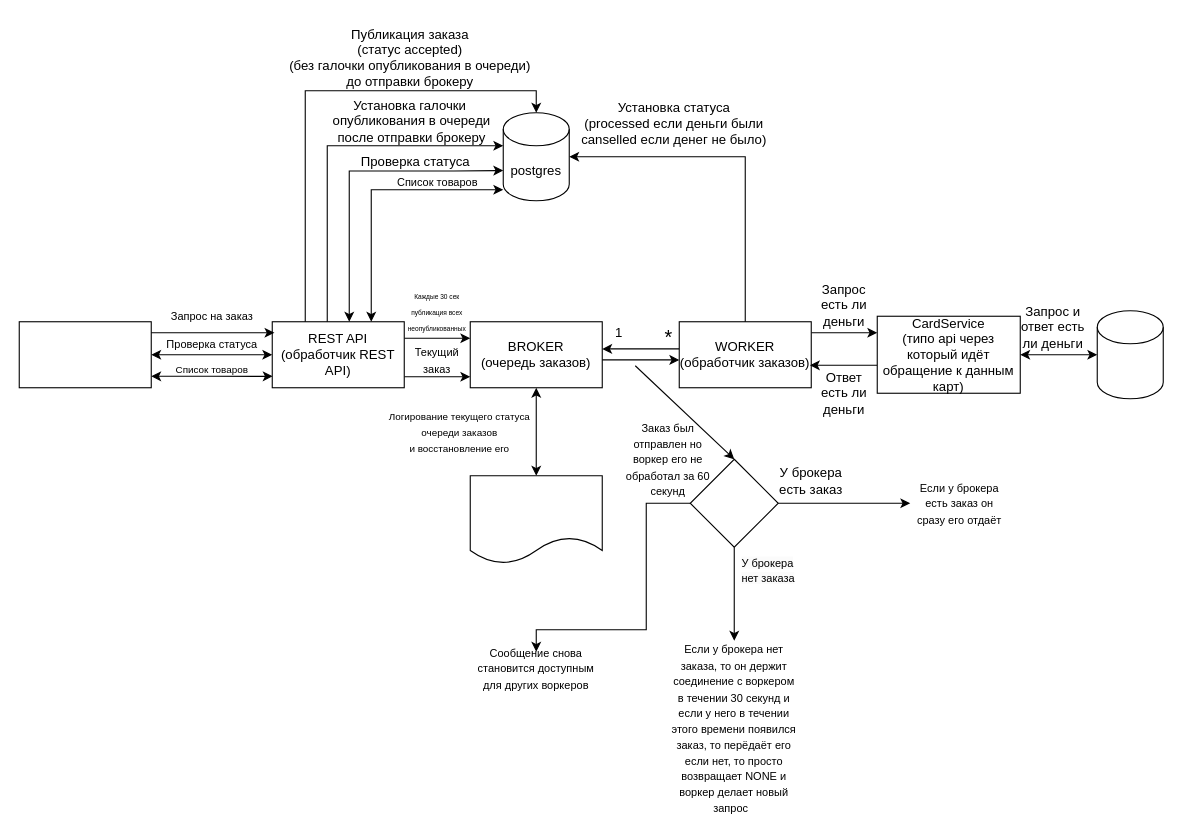
Image size: 1183x835. Some labels were removed from this diagram. Here are the shapes that lost their labels. From the top down, the centre of each, then its label:
point (84, 354): USER
point (1129, 354): carddb
point (535, 519): Файл в котором хранится все заказы
